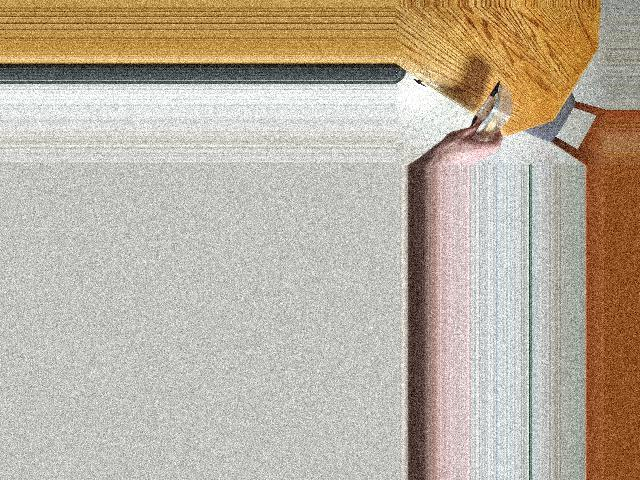cheese: (447, 95, 529, 156)
